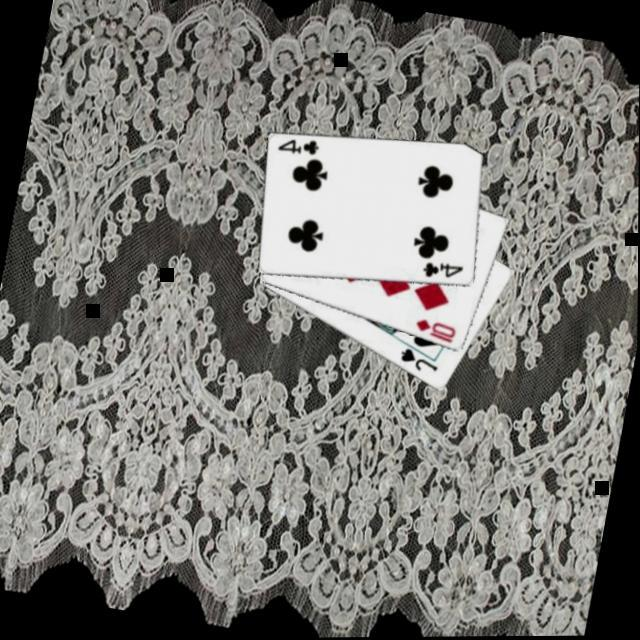10D: (411, 313, 462, 346)
4C: (275, 129, 325, 160), (420, 254, 469, 284)
JS: (396, 342, 445, 375)
